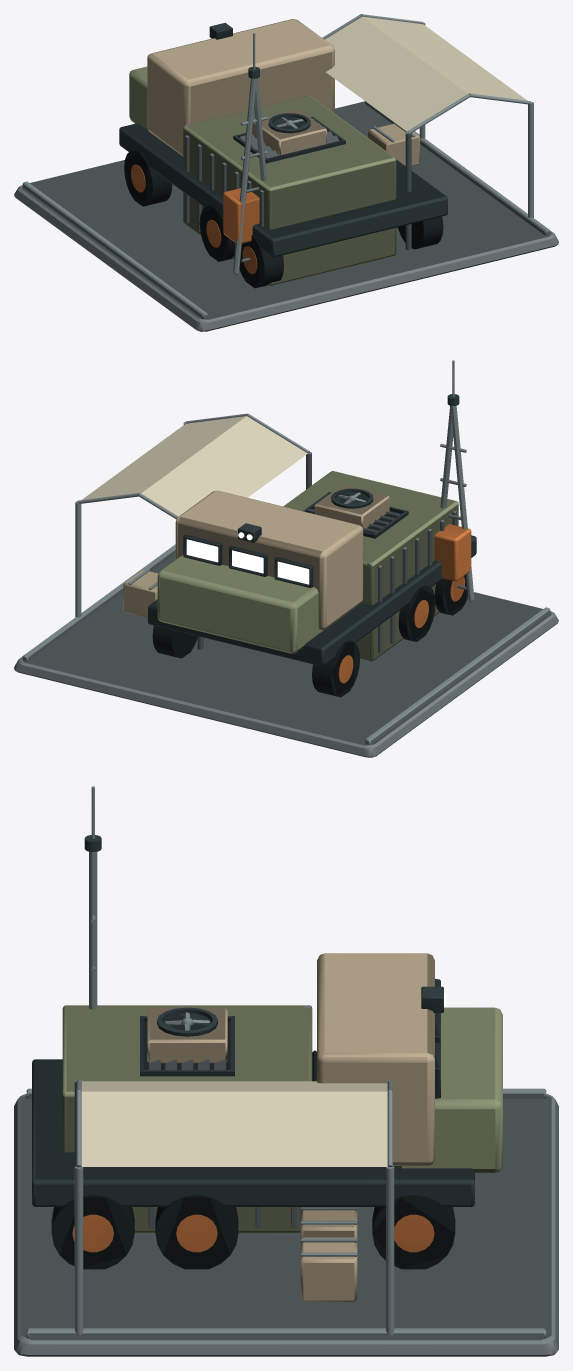
File: ConvoyHQ.glb
3 renders of one model, top to bottom at view 1: azimuth 30°, elevation 25°; view 2: azimuth 150°, elevation 25°; view 3: azimuth 270°, elevation 25°, orthographic. The views are drawn at different scales.
Visible parts, largest first — view 1: export_ConvoyHQ_GravelPad; view 2: export_ConvoyHQ_GravelPad; view 3: export_ConvoyHQ_GravelPad.
Part boxes in pixels (<box>): export_ConvoyHQ_GravelPad: <box>14,14,558,331</box>; export_ConvoyHQ_GravelPad: <box>14,360,558,757</box>; export_ConvoyHQ_GravelPad: <box>14,786,558,1356</box>.
Bounding box in the file's own units: 6.38 × 4.37 × 5.78.
